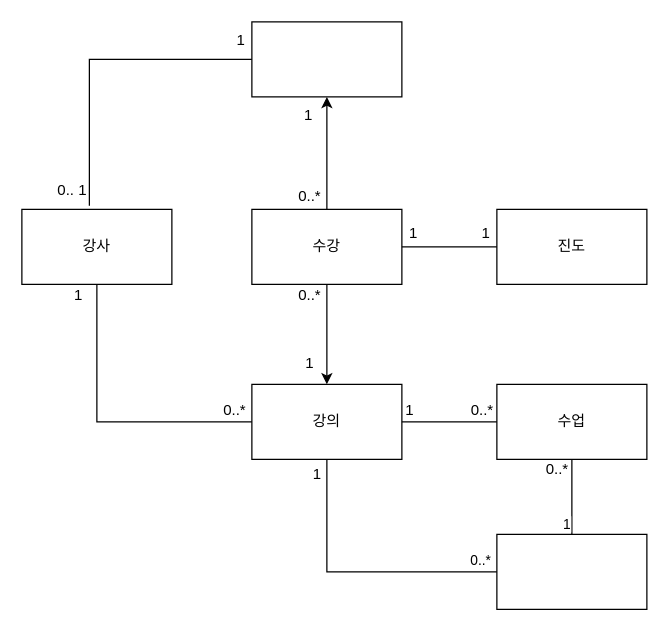
Some shapes in this 669 by 631 pixel diagram are drawn without their labels. Here are the shapes that lost their labels. From the top down, the box of each, then its label:
(251, 21, 402, 97): 회원
(496, 533, 647, 609): 섹션
